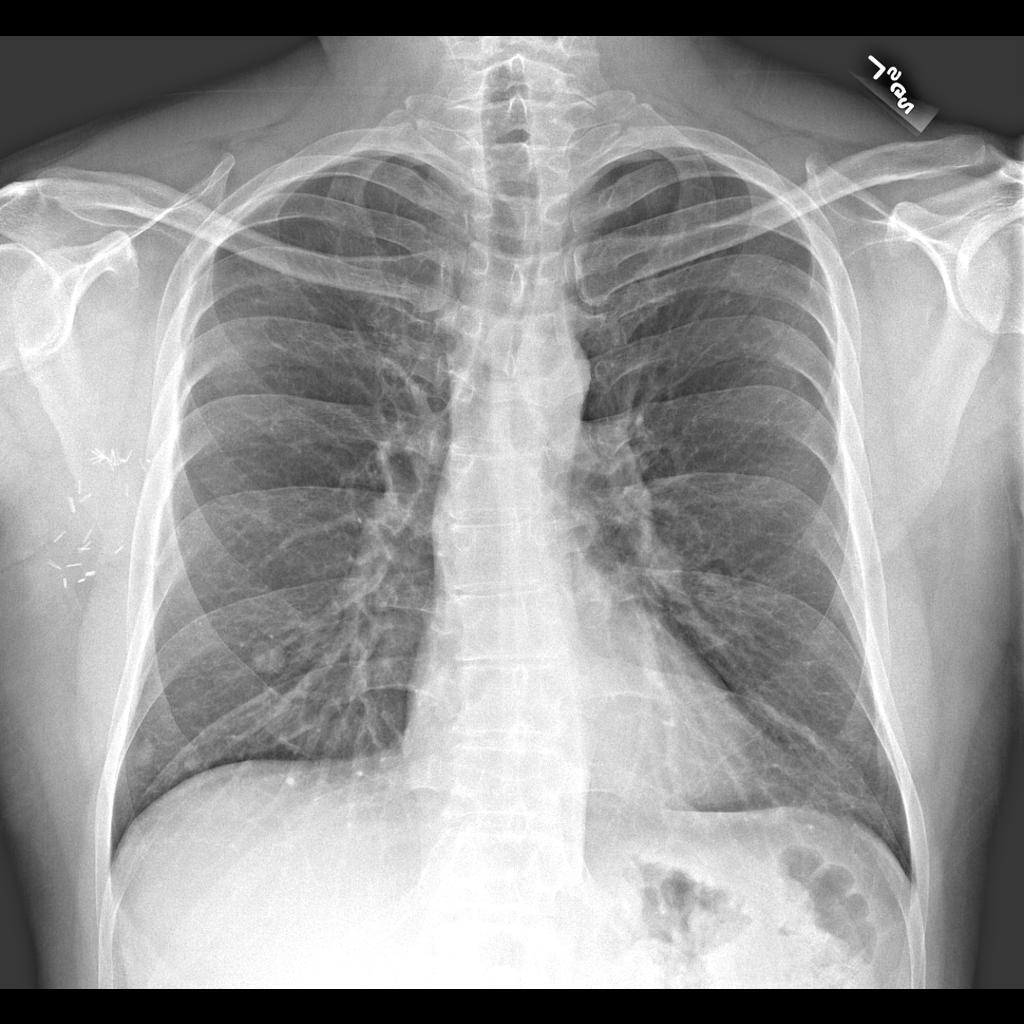Nodule: (246, 632, 293, 681)
